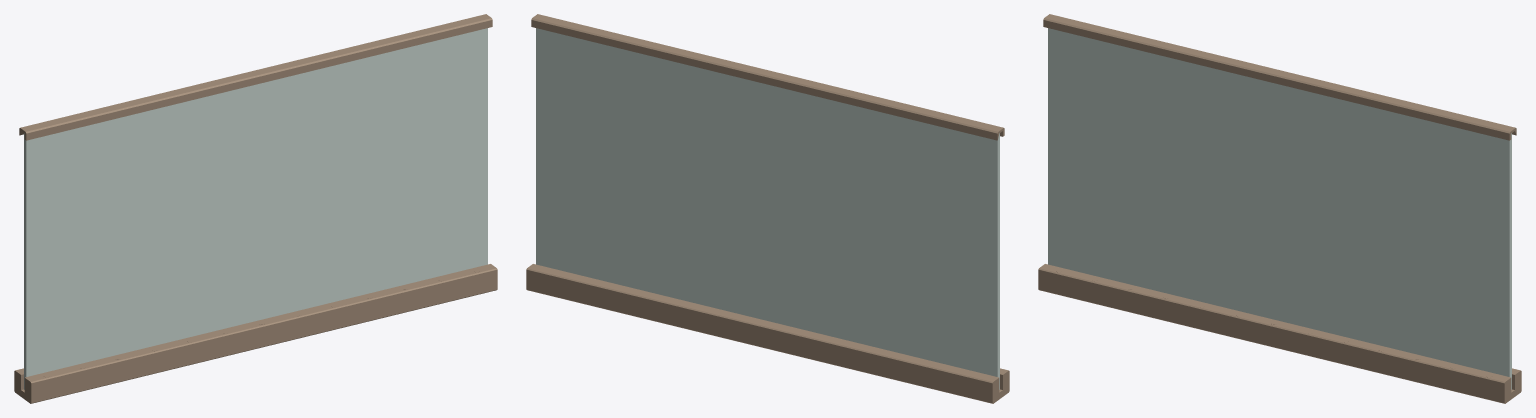
File: gc-glassline-200-quartz-1019.glb
3 renders of one model, left to right at view 1: azimuth 30°, elevation 25°; view 2: azimuth 150°, elevation 25°; view 3: azimuth 330°, elevation 25°, orthographic.
Visible parts, largest first — view 1: verre, structure; view 2: verre, structure; view 3: verre, structure.
Boxes of the visible parts, <box> form: verre: <box>24,28,487,389</box>; structure: <box>14,14,497,403</box>; verre: <box>536,28,999,389</box>; structure: <box>526,14,1009,403</box>; verre: <box>1048,28,1511,389</box>; structure: <box>1038,14,1521,403</box>.
Size of the model in its own units: 2 by 1.1 by 0.125.
